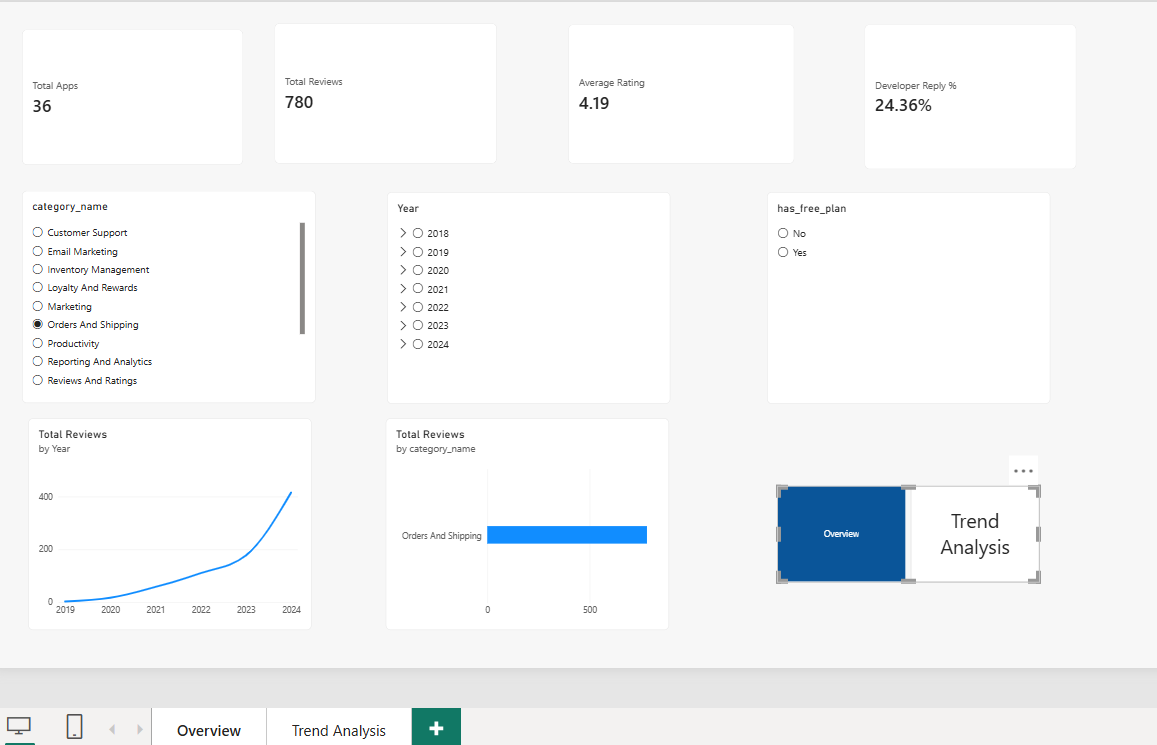

The dashboard page shown, as its layout file describes it:
{"tool":"powerbi","page":{"name":"Overview","canvas":[1920,1080],"ordinal":0},"visuals":[{"type":"cardVisual","fields":{"Data":["apps.Total Apps"]},"box":[48.7,44.7,359.2,220.2],"z":0},{"type":"cardVisual","fields":{"Data":["apps.Total Reviews"]},"box":[459.7,34.2,361.3,228.8],"z":1000},{"type":"cardVisual","fields":{"Data":["apps.Average Rating"]},"box":[936.5,36.3,367.8,226.6],"z":2000},{"type":"cardVisual","fields":{"Data":["apps.Developer Reply%"]},"box":[1417.6,36.3,344.2,235.2],"z":3000},{"type":"listSlicer","fields":{"Values":["apps.category_name"]},"box":[48.7,306.5,477,345],"z":4000},{"type":"listSlicer","fields":{"Values":["dim_date.Date.Variation.Date Hierarchy.Year","dim_date.Date.Variation.Date Hierarchy.Quarter","dim_date.Date.Variation.Date Hierarchy.Month","dim_date.Date.Variation.Date Hierarchy.Day"]},"box":[641.4,308.5,459.7,344.2],"z":5000},{"type":"listSlicer","fields":{"Values":["apps.has_free_plan"]},"box":[1258.4,308.5,459.7,344.2],"z":6000},{"type":"lineChart","fields":{"Category":["dim_date.Date.Variation.Date Hierarchy.Year","dim_date.Date.Variation.Date Hierarchy.Quarter","dim_date.Date.Variation.Date Hierarchy.Month","dim_date.Date.Variation.Date Hierarchy.Day"],"Y":["apps.Total Reviews"]},"box":[58.9,675.9,460,344],"z":7000},{"type":"barChart","fields":{"Category":["apps.category_name"],"Y":["apps.Total Reviews"]},"box":[639.3,675.9,460,344],"z":8000},{"type":"pageNavigator","box":[1274.6,785.5,426.2,156.3],"z":9000}]}

Visuals, with their boxes on the page's 1920x1080 design canvas (x1, y1, x2, y2). These are canvas units, not pixel positions in the 1157x745 screenshot, which may show the page scaled, cropped or inside an application window:
cardVisual - apps.Total Apps: locate(49, 45, 408, 265)
cardVisual - apps.Total Reviews: locate(460, 34, 821, 263)
cardVisual - apps.Average Rating: locate(936, 36, 1304, 263)
cardVisual - apps.Developer Reply%: locate(1418, 36, 1762, 272)
listSlicer - apps.category_name: locate(49, 306, 526, 652)
listSlicer - dim_date.Date.Variation.Date Hierarchy.Year x dim_date.Date.Variation.Date Hierarchy.Quarter: locate(641, 308, 1101, 653)
listSlicer - apps.has_free_plan: locate(1258, 308, 1718, 653)
lineChart - dim_date.Date.Variation.Date Hierarchy.Year x dim_date.Date.Variation.Date Hierarchy.Quarter: locate(59, 676, 519, 1020)
barChart - apps.category_name x apps.Total Reviews: locate(639, 676, 1099, 1020)
pageNavigator: locate(1275, 786, 1701, 942)
